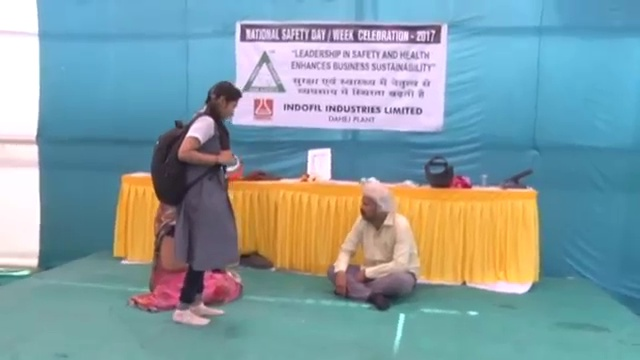helmet_off: (203, 82, 243, 122), (359, 186, 392, 228)
person: (149, 82, 244, 327), (328, 185, 421, 312)
